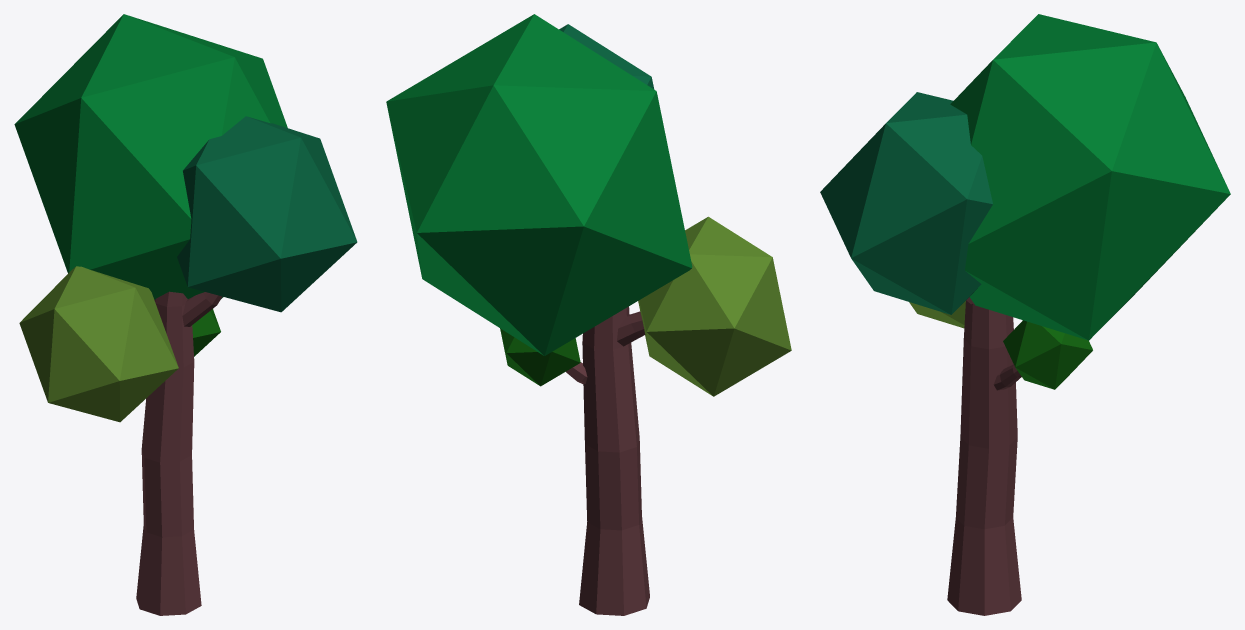
File: DayTree3.fbx
3 renders of one model, left to right at view 1: azimuth 30°, elevation 25°; view 2: azimuth 150°, elevation 25°; view 3: azimuth 270°, elevation 25°, orthographic. The views are drawn at different scales.
Parts seen in each view (by area): view 1: Icosphere.001, Icosphere, Icosphere.002, Cylinder, Cylinder.004, Icosphere.003; view 2: Icosphere.001, Icosphere.002, Cylinder, Icosphere.003, Icosphere, Cylinder.005; view 3: Icosphere.001, Icosphere, Cylinder, Icosphere.003, Icosphere.002.
Boxes of the visible parts, left/top/right/bottom form: Icosphere.001: left=14, top=14, right=287, bottom=299; Icosphere: left=177, top=116, right=357, bottom=312; Icosphere.002: left=19, top=266, right=178, bottom=422; Cylinder: left=136, top=291, right=201, bottom=615; Cylinder.004: left=182, top=292, right=222, bottom=326; Icosphere.003: left=192, top=309, right=220, bottom=356; Icosphere.001: left=386, top=14, right=692, bottom=355; Icosphere.002: left=638, top=216, right=791, bottom=396; Cylinder: left=579, top=306, right=649, bottom=615; Icosphere.003: left=500, top=328, right=580, bottom=386; Icosphere: left=559, top=24, right=654, bottom=89; Cylinder.005: left=617, top=311, right=645, bottom=346; Icosphere.001: left=950, top=14, right=1230, bottom=340; Icosphere: left=820, top=92, right=992, bottom=314; Cylinder: left=947, top=300, right=1021, bottom=615; Icosphere.003: left=1003, top=320, right=1092, bottom=389; Icosphere.002: left=909, top=301, right=965, bottom=328.
Bounding box in the file's own units: 1301 × 2222 × 1432.
